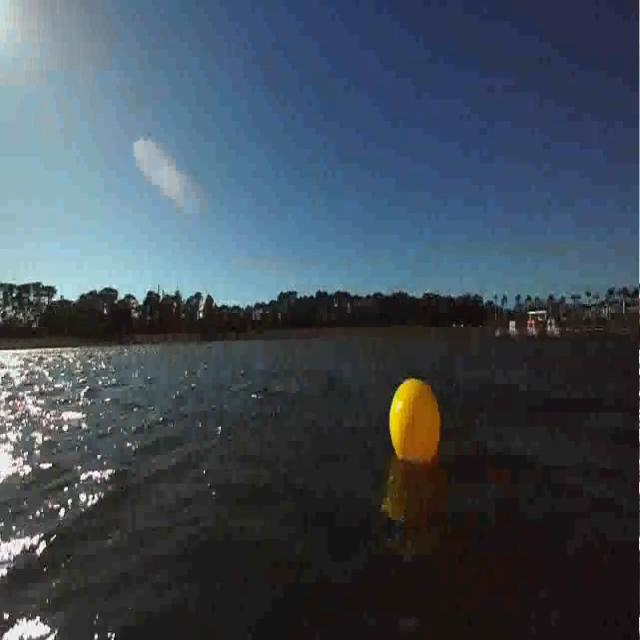yellow-buoy: (389, 378, 442, 469)
